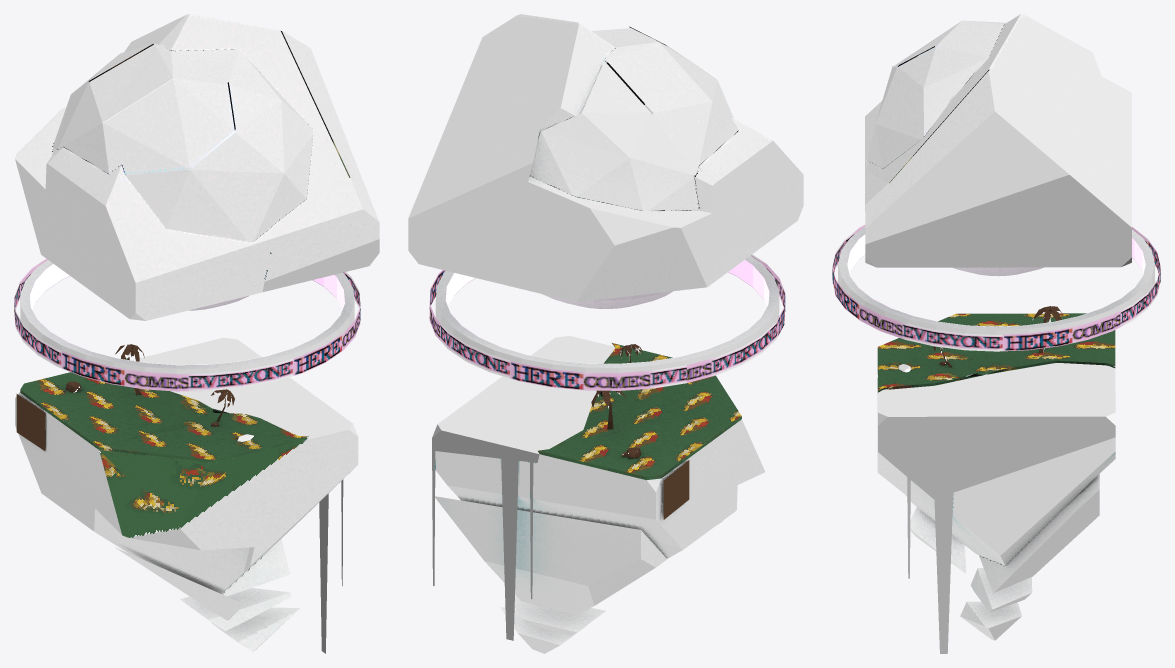
The model's file is Island_Test.glb.
3 renders of one model, left to right at view 1: azimuth 30°, elevation 25°; view 2: azimuth 150°, elevation 25°; view 3: azimuth 270°, elevation 25°, orthographic. The views are drawn at different scales.
Parts seen in each view (by area): view 1: 整体部分, 小岛玻璃, 滚动动画, 小岛内环发光; view 2: 整体部分, 小岛玻璃, 滚动动画, 小岛内环发光; view 3: 整体部分, 小岛玻璃, 滚动动画, 小岛内环发光.
Boxes of the visible parts, left/top/right/bottom form: 整体部分: left=15, top=14, right=379, bottom=651; 小岛玻璃: left=131, top=239, right=379, bottom=653; 滚动动画: left=14, top=258, right=360, bottom=391; 小岛内环发光: left=30, top=264, right=344, bottom=365; 整体部分: left=408, top=14, right=803, bottom=653; 小岛玻璃: left=432, top=336, right=615, bottom=640; 滚动动画: left=429, top=254, right=785, bottom=390; 小岛内环发光: left=445, top=260, right=769, bottom=363; 整体部分: left=838, top=14, right=1154, bottom=640; 小岛玻璃: left=865, top=174, right=1131, bottom=653; 滚动动画: left=832, top=225, right=1160, bottom=351; 小岛内环发光: left=847, top=234, right=1145, bottom=326.
Size of the model in its own units: 14.89 by 30.21 by 14.89.
5 materials, 2 textured.
